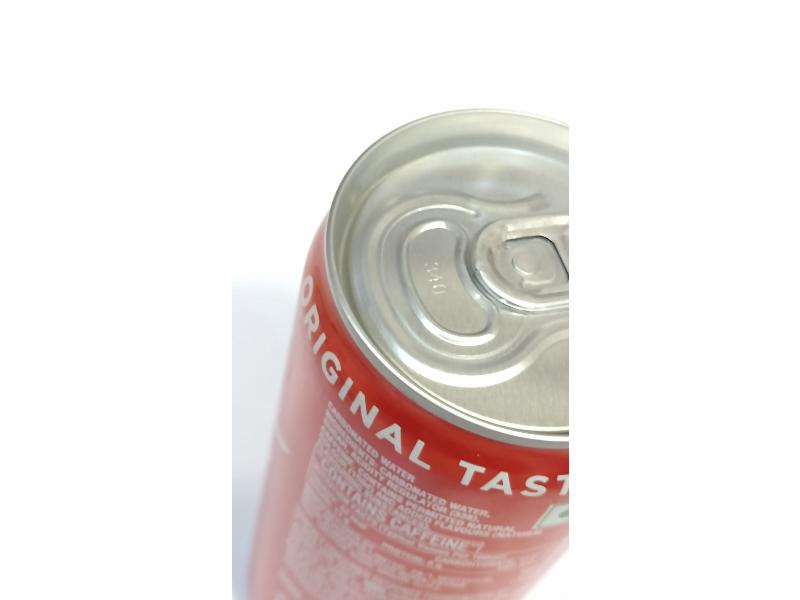can: (241, 106, 568, 592)
